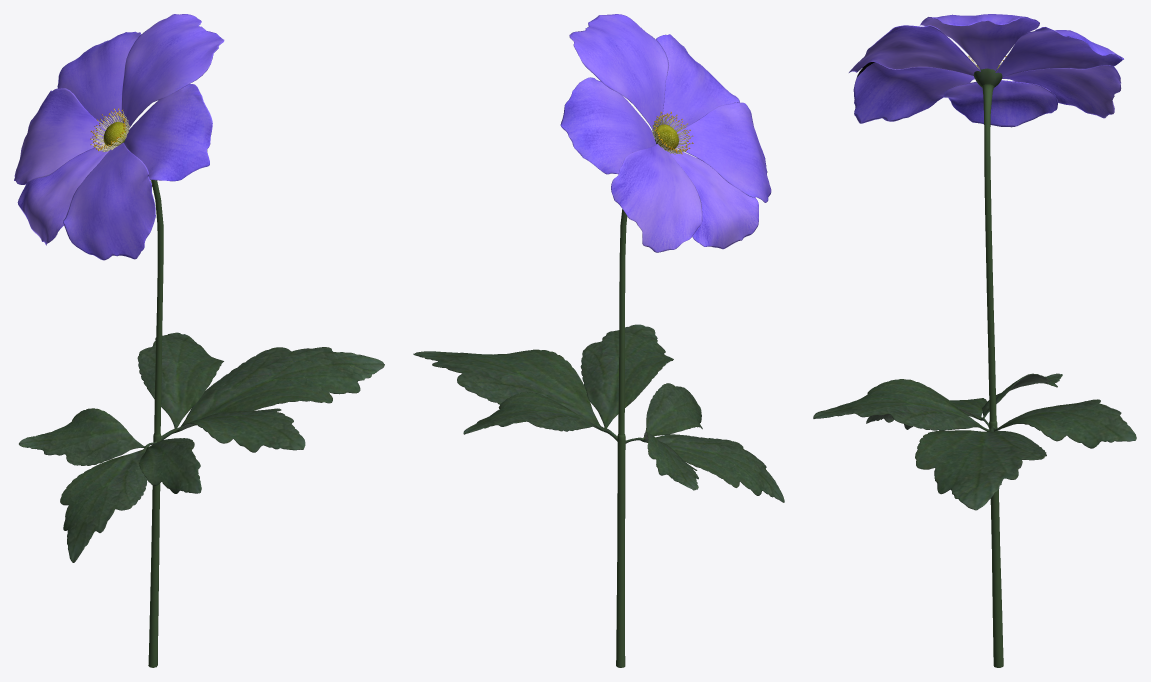
Rendered from anemonepurplecp.glb.
3 views of the same model, side by side, from view 1: azimuth 30°, elevation 25°; view 2: azimuth 150°, elevation 25°; view 3: azimuth 270°, elevation 25° (orthographic). The views are drawn at different scales.
Parts seen in each view (by area): view 1: 12973_anemone_flower_v1_l2; view 2: 12973_anemone_flower_v1_l2; view 3: 12973_anemone_flower_v1_l2.
Part boxes in pixels (box(x1,y1,x2,y2)): 12973_anemone_flower_v1_l2: box(14, 14, 384, 667); 12973_anemone_flower_v1_l2: box(413, 14, 784, 667); 12973_anemone_flower_v1_l2: box(813, 14, 1136, 667).
Size of the model in its own units: 2.56 by 4.5 by 1.97.
Materials: 1 (1 with a texture image).
